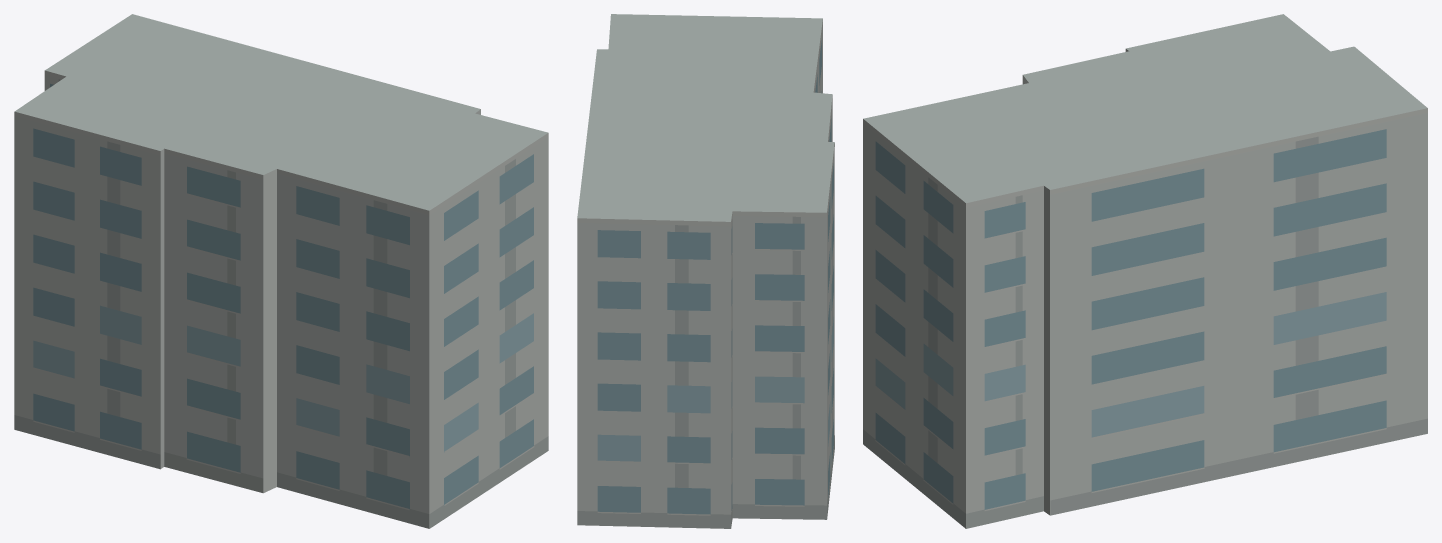
The model's file is survey-upis-32831067.glb.
3 renders of one model, left to right at view 1: azimuth 30°, elevation 25°; view 2: azimuth 150°, elevation 25°; view 3: azimuth 270°, elevation 25°, orthographic. The views are drawn at different scales.
Parts seen in each view (by area): view 1: survey-upis-32831067.tmp; view 2: survey-upis-32831067.tmp; view 3: survey-upis-32831067.tmp.
Boxes of the visible parts, x1,y1,x2,y2 form: survey-upis-32831067.tmp: [14, 14, 548, 528]; survey-upis-32831067.tmp: [577, 14, 834, 528]; survey-upis-32831067.tmp: [863, 14, 1427, 528].
Size of the model in its own units: 20.75 by 16.64 by 26.17.
